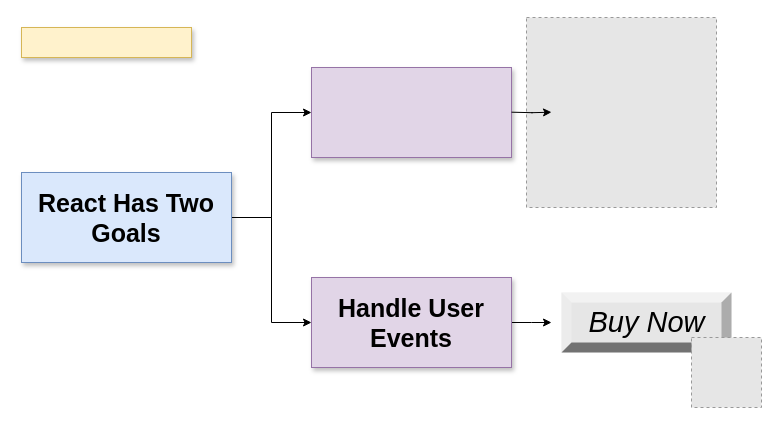
The diagram is 779 pixels wide and 425 high, and some of its shapes have lost their labels. Grey dashed boxes stand in for pictures. The shapes that lost their labels are listed below. From the top down, each one's centre as x and y in pixels, then its label:
At [107,43]: "Goals of React".
At [412,113]: "Show Content to Users".
